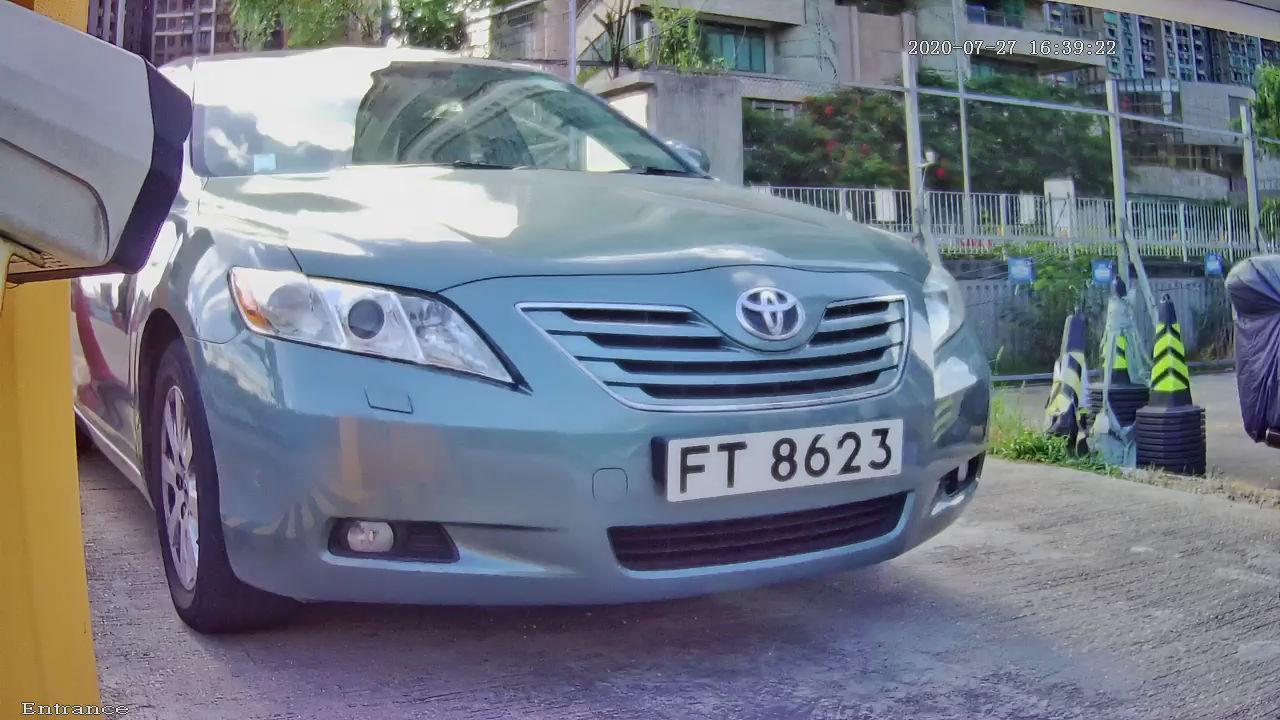privatecar: (58, 29, 1092, 637)
